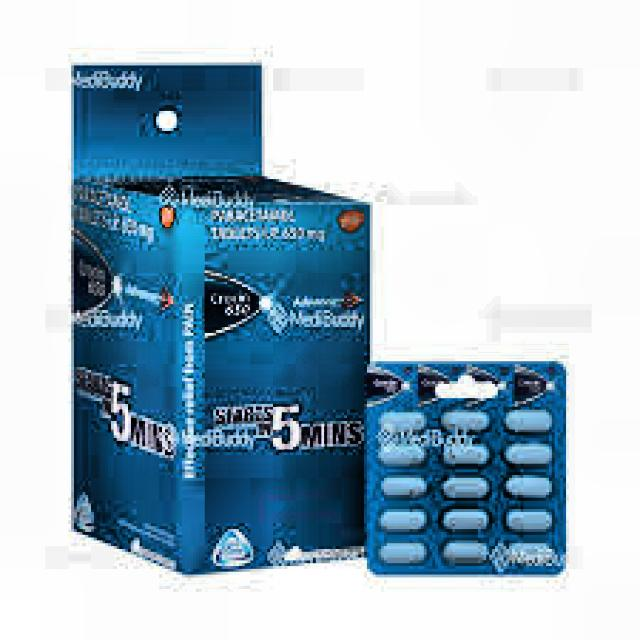Crocin: (186, 256, 276, 359), (69, 224, 133, 350)
